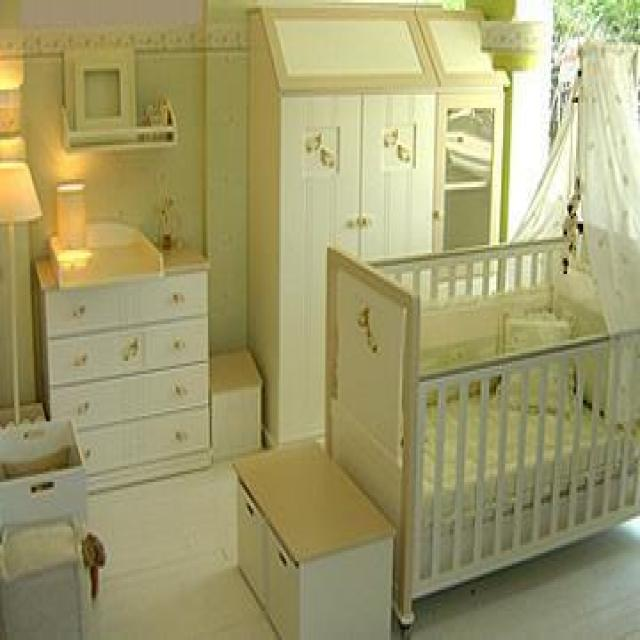crib: (324, 232, 638, 632)
cupboard: (30, 235, 214, 492)
curtains: (503, 37, 638, 424)
door: (278, 90, 436, 442)
indoor-plant: (1, 0, 636, 637)
table: (230, 438, 396, 638)
table-lamp: (0, 155, 43, 424)
